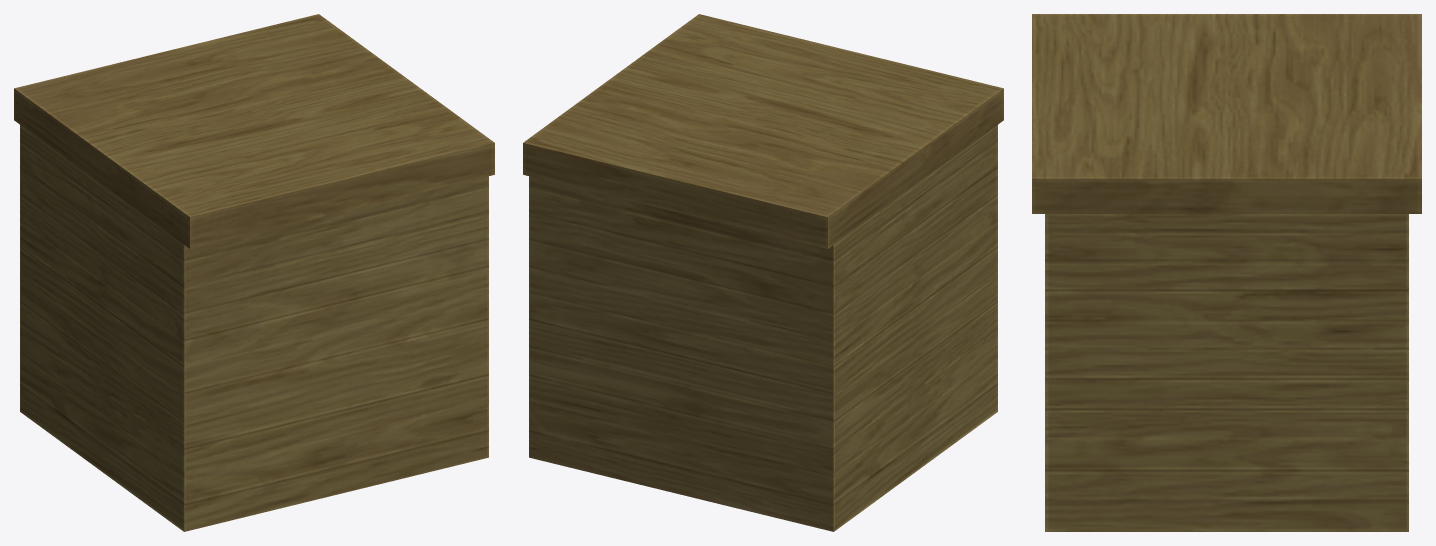
The model's file is sb_obj_outdoor028_house03_wall02.fbx.
3 renders of one model, left to right at view 1: azimuth 30°, elevation 25°; view 2: azimuth 150°, elevation 25°; view 3: azimuth 270°, elevation 25°, orthographic. The views are drawn at different scales.
Visible parts, largest first — view 1: sb_obj_outdoor028_house03_wall02; view 2: sb_obj_outdoor028_house03_wall02; view 3: sb_obj_outdoor028_house03_wall02.
Part boxes in pixels (<box>): sb_obj_outdoor028_house03_wall02: <box>14,14,494,531</box>; sb_obj_outdoor028_house03_wall02: <box>523,14,1003,531</box>; sb_obj_outdoor028_house03_wall02: <box>1032,14,1421,531</box>.
Bounding box in the file's own units: 3 × 3 × 3.
Materials: 1 (1 with a texture image).
